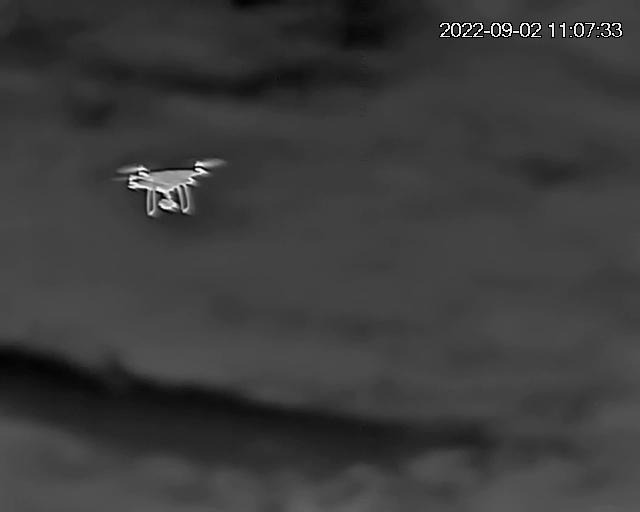DJI-Phantom: (114, 161, 222, 218)
